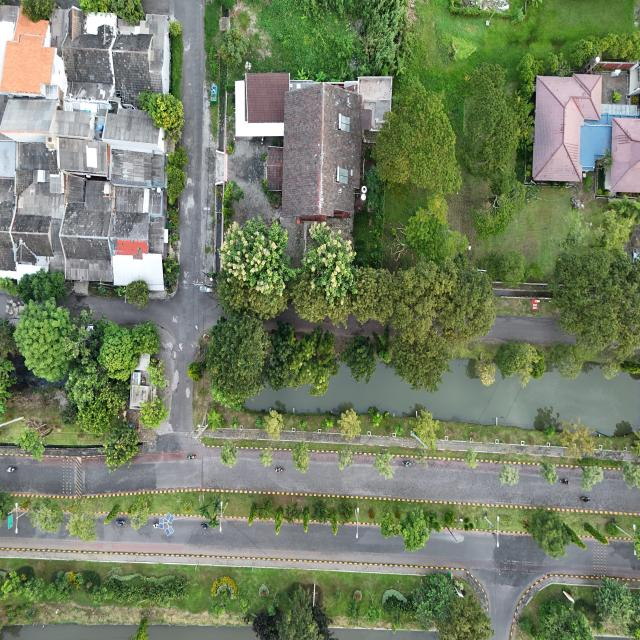Tree: (526, 503, 567, 563), (104, 423, 139, 472), (562, 418, 598, 461), (27, 498, 64, 534), (15, 426, 47, 463), (498, 246, 527, 284), (404, 508, 429, 552), (64, 509, 97, 542), (138, 395, 170, 429), (412, 412, 442, 448), (122, 277, 151, 309), (128, 494, 151, 533), (372, 450, 399, 481), (472, 355, 496, 388), (582, 521, 610, 547), (292, 439, 312, 473), (536, 457, 559, 486), (582, 463, 603, 493), (218, 441, 240, 469), (498, 460, 520, 487), (335, 447, 355, 472), (266, 411, 283, 438), (256, 497, 274, 522), (207, 407, 225, 431), (365, 601, 383, 625), (104, 501, 119, 529), (312, 498, 328, 524), (348, 594, 360, 625), (464, 446, 480, 469), (189, 359, 204, 383), (285, 503, 301, 525), (338, 501, 354, 523), (168, 17, 183, 38), (274, 505, 284, 536), (329, 506, 338, 536), (302, 504, 310, 533), (261, 447, 272, 468), (247, 502, 256, 527), (265, 600, 278, 617), (240, 598, 252, 614), (324, 416, 335, 432)
